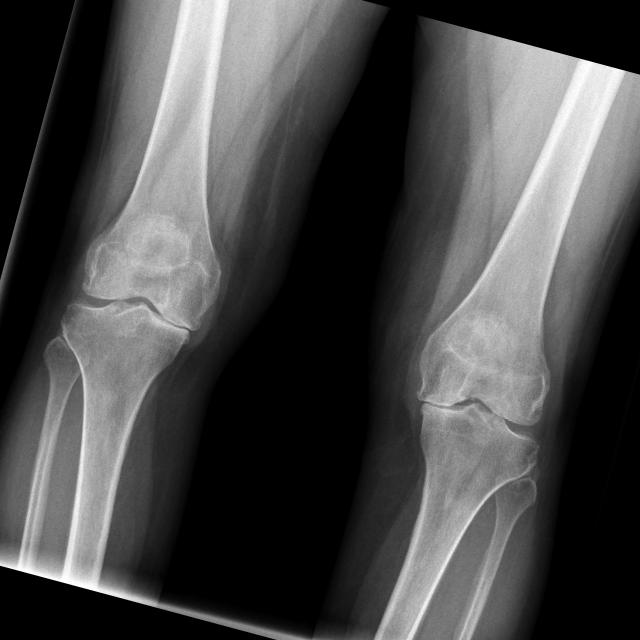Knee: (392, 318, 566, 492), (50, 218, 228, 388)
